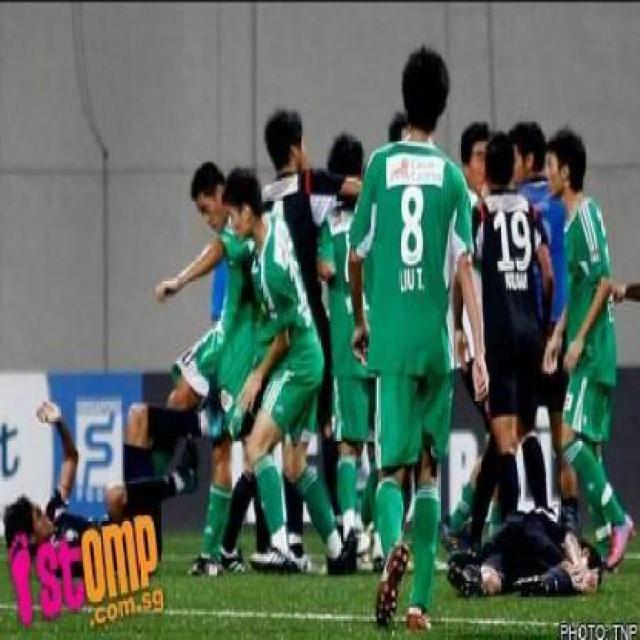fall: (437, 483, 617, 603)
